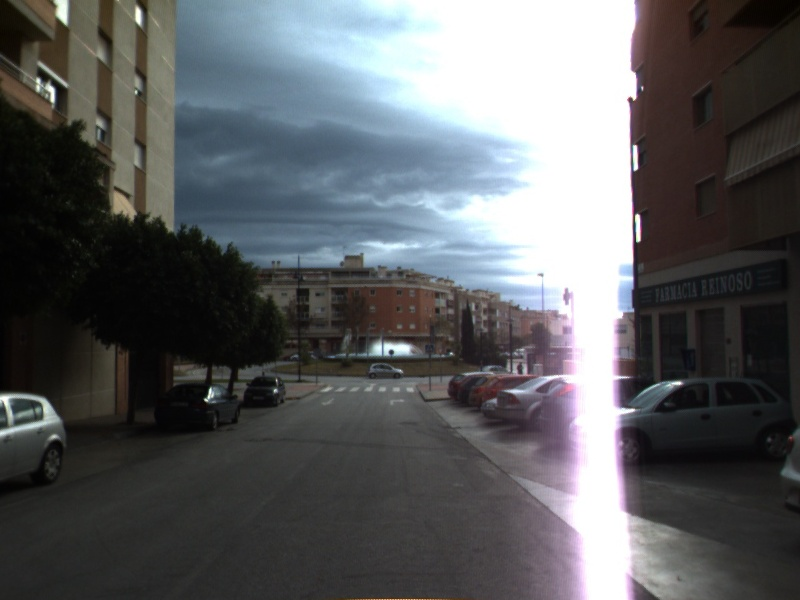RIGHT: (388, 396, 407, 407)
